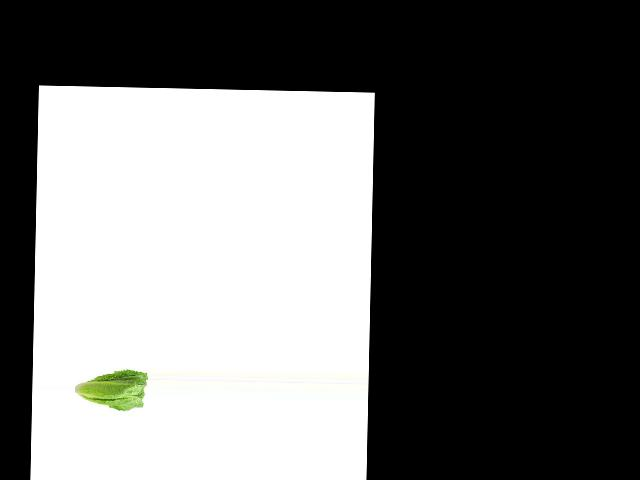lettuce: (75, 366, 148, 416)
